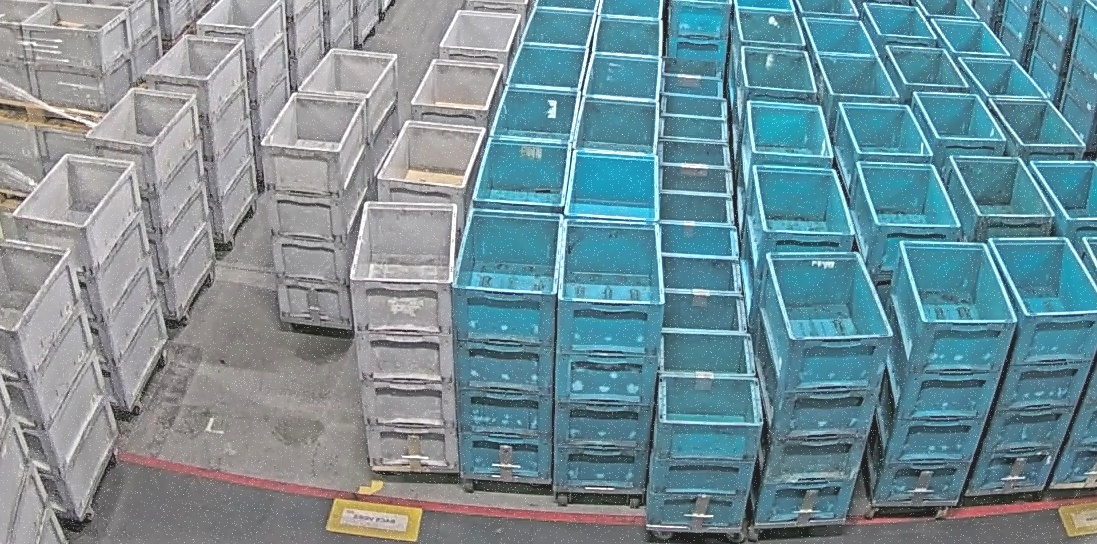4G: (348, 199, 458, 472), (261, 92, 369, 332)
B4: (864, 239, 1019, 507), (751, 246, 891, 526), (966, 236, 1097, 493), (454, 208, 565, 482), (554, 217, 665, 490)
B8: (644, 326, 763, 527)
